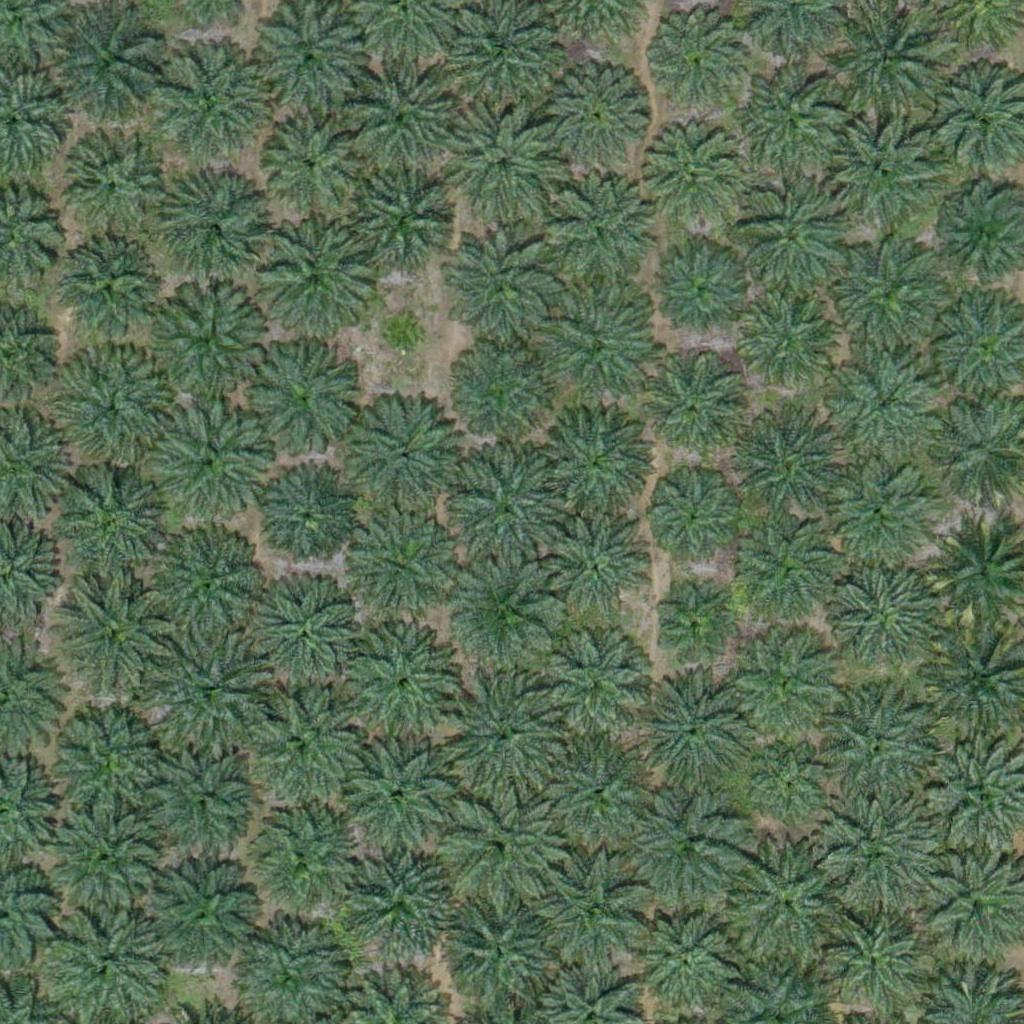Kelapa_Sawit: (148, 41, 273, 167), (446, 450, 571, 576), (339, 60, 464, 186), (145, 524, 270, 650), (52, 343, 177, 469), (51, 465, 176, 591), (51, 577, 176, 703), (48, 796, 173, 922), (229, 686, 354, 812), (439, 671, 564, 797), (435, 786, 560, 912), (731, 842, 856, 968), (817, 689, 942, 815), (40, 7, 165, 132), (143, 396, 268, 521), (145, 279, 270, 404), (48, 702, 173, 827), (234, 797, 359, 922), (822, 564, 935, 678), (733, 407, 846, 521), (540, 737, 653, 851), (537, 630, 650, 744), (732, 64, 845, 177), (735, 179, 848, 292), (448, 558, 561, 671), (342, 512, 455, 625), (345, 394, 458, 507), (347, 172, 460, 285), (143, 860, 256, 973), (144, 746, 257, 859), (157, 631, 270, 744), (533, 858, 646, 971), (823, 794, 936, 907), (445, 7, 557, 121), (536, 63, 648, 177), (540, 169, 652, 283), (541, 287, 653, 401), (449, 108, 561, 222), (447, 233, 559, 347), (632, 678, 744, 792), (634, 792, 746, 906), (830, 3, 942, 116), (827, 348, 939, 461), (832, 246, 944, 359), (831, 112, 943, 225), (538, 402, 650, 515), (249, 335, 361, 448), (259, 581, 371, 694), (155, 174, 267, 287), (57, 129, 169, 242), (347, 843, 459, 956), (339, 740, 451, 853), (344, 630, 456, 743), (444, 900, 556, 1013), (649, 6, 749, 107), (640, 130, 740, 231), (547, 516, 647, 617), (452, 340, 552, 441), (259, 112, 359, 213), (266, 230, 366, 331), (259, 467, 359, 568), (57, 239, 157, 340), (734, 640, 834, 741), (831, 459, 931, 559), (737, 297, 837, 397), (739, 519, 839, 619), (633, 910, 733, 1010), (826, 906, 926, 1006), (650, 475, 738, 563), (652, 370, 740, 458), (660, 250, 747, 338), (653, 590, 728, 666), (755, 749, 830, 825), (378, 311, 428, 361)
